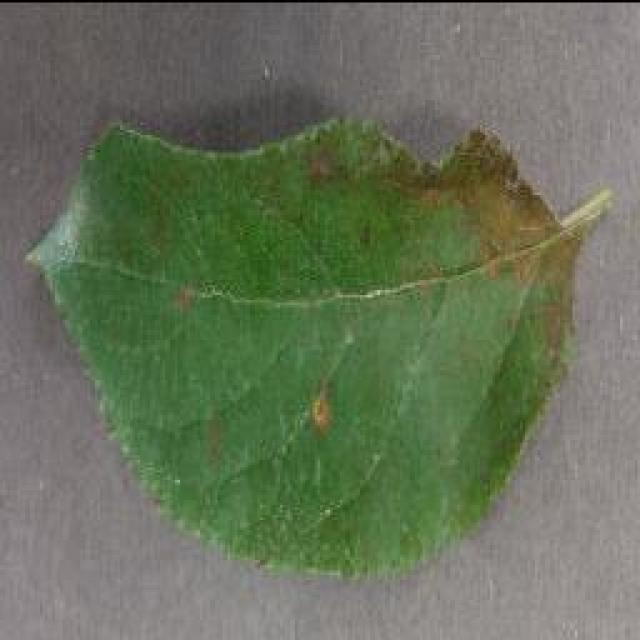apple rust disease: (22, 112, 610, 582)
